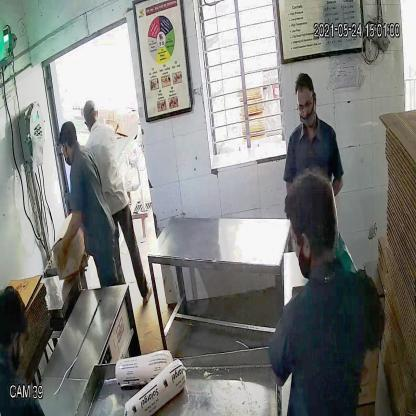goggles: (295, 97, 318, 115)
